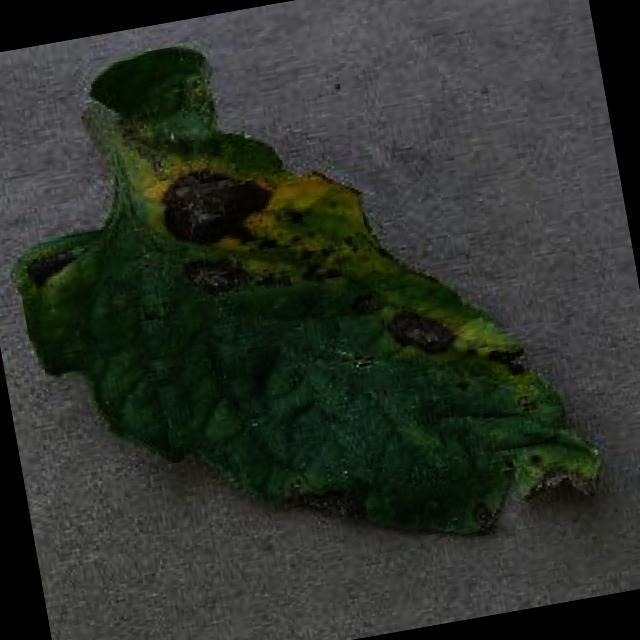Tomato Early blight leaf: (0, 0, 603, 614)
